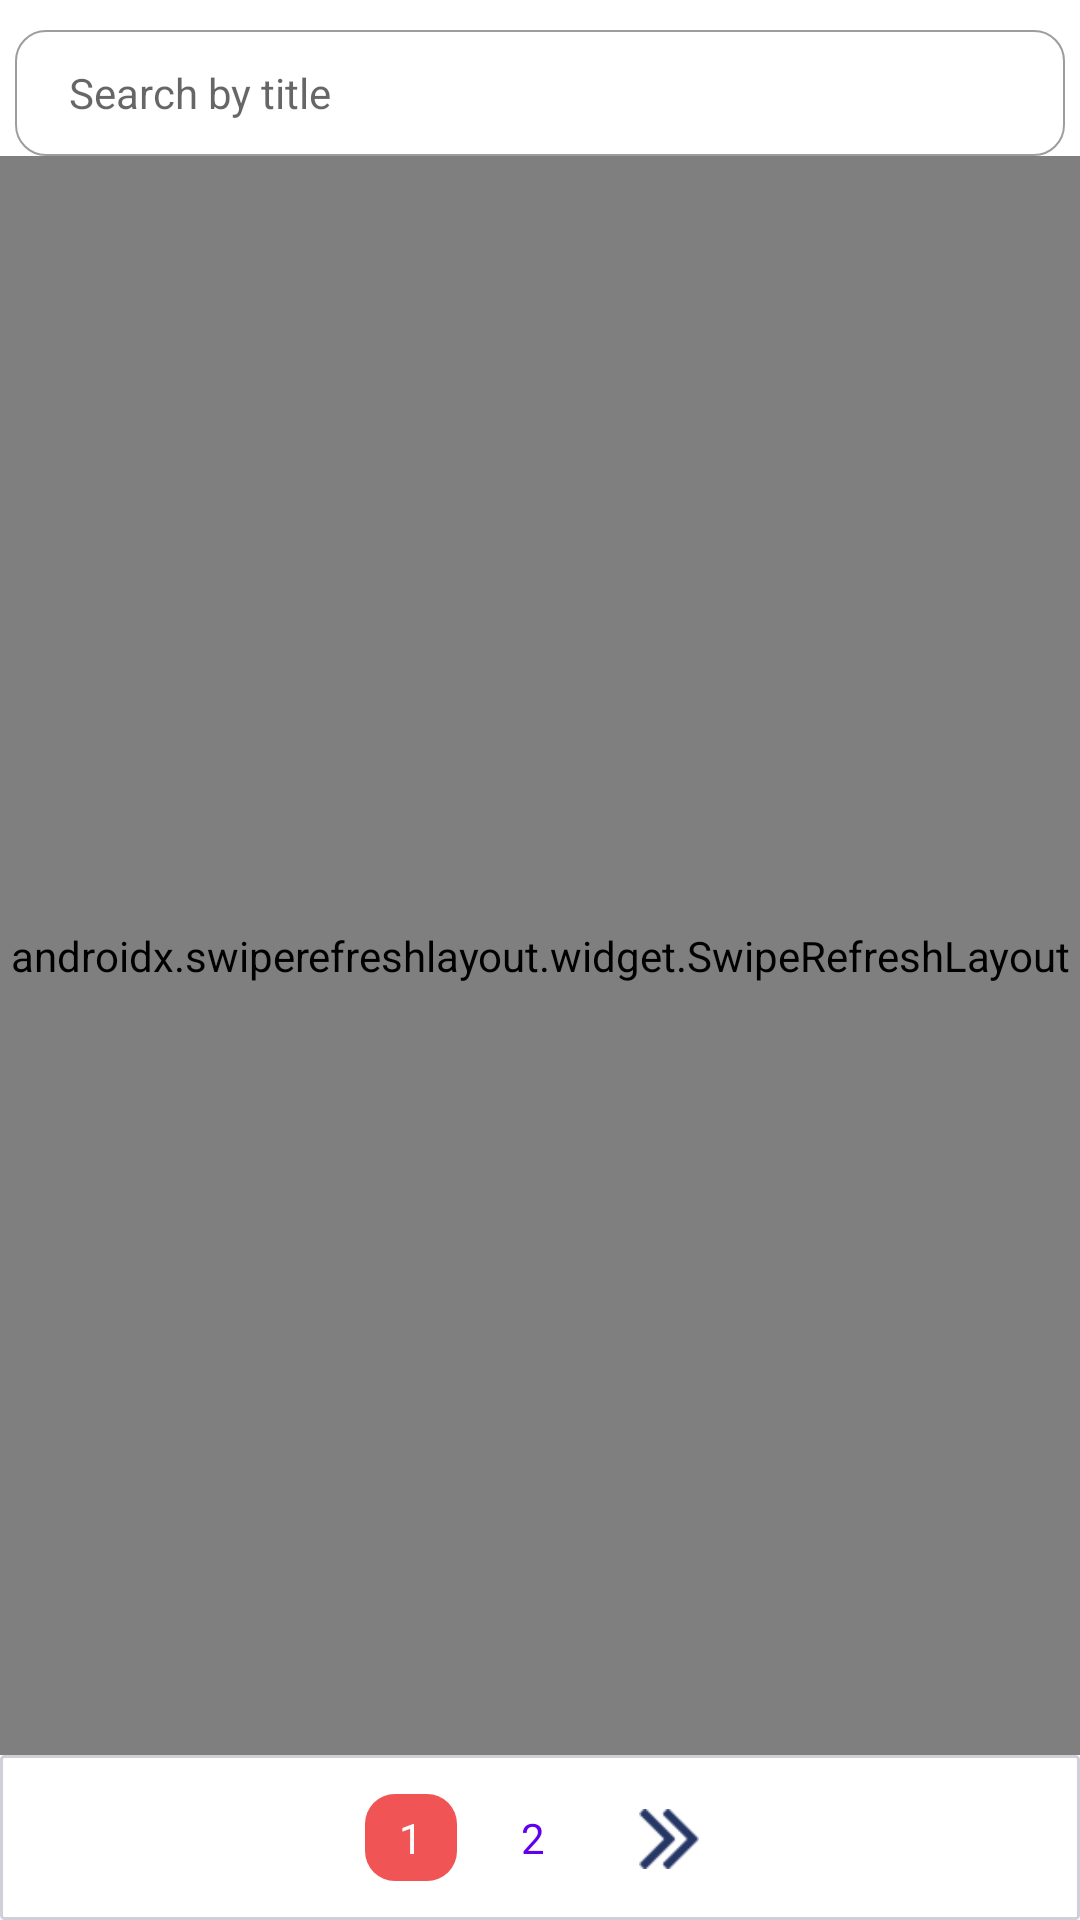

Point at icon controls on the screen. Image size 1080 × 1920, points as (x=x, y=y).
double right arrow: (x=669, y=1839)
